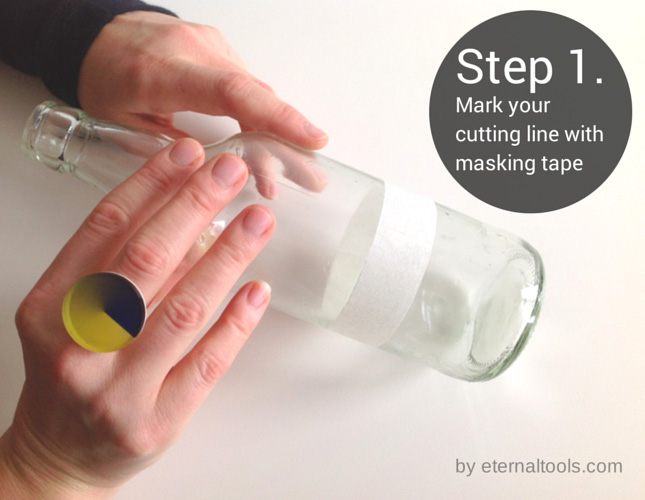glass_bottle: (17, 97, 551, 389)
